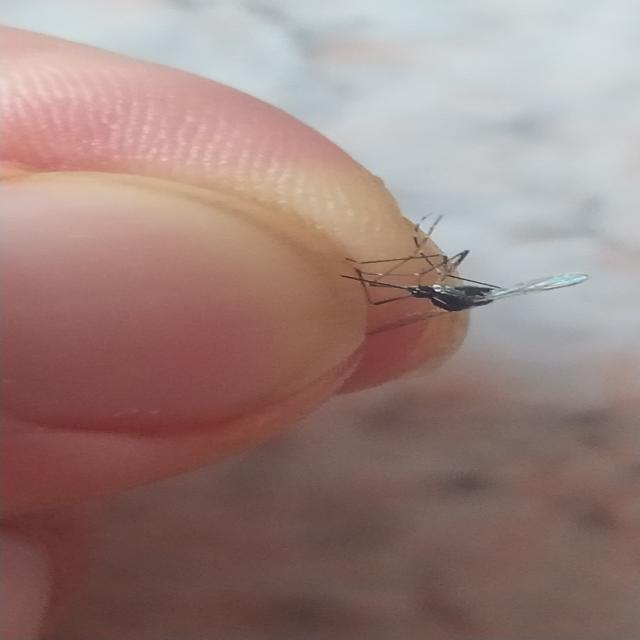albopictus: (315, 200, 602, 318)
